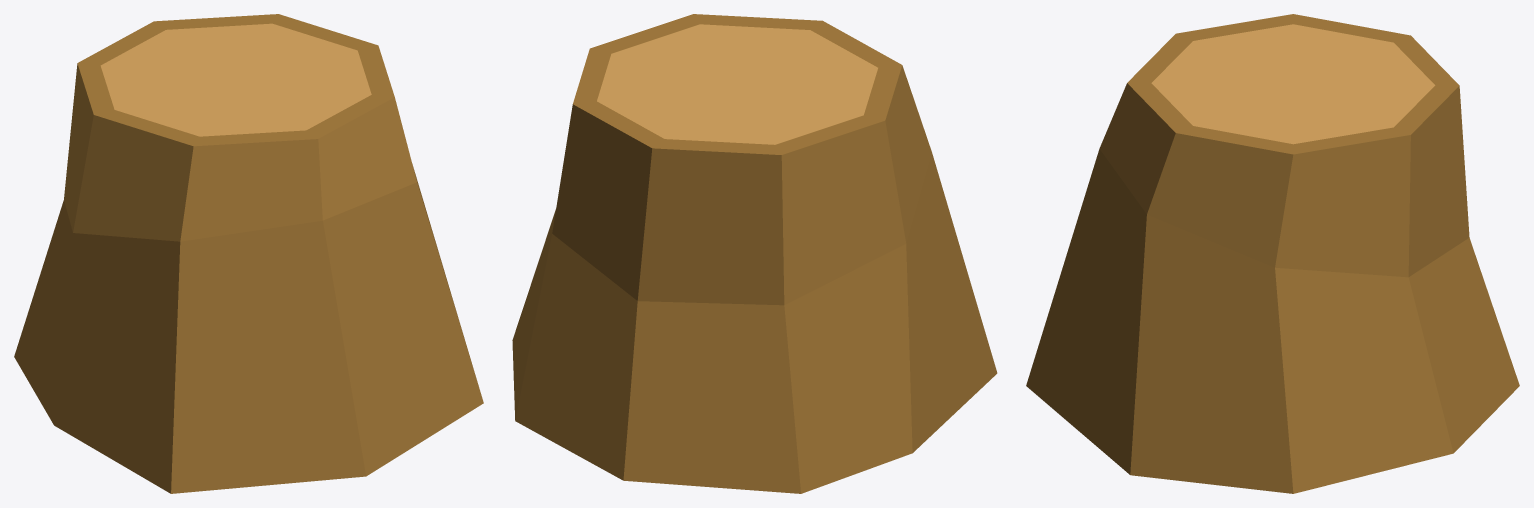
File: treestump 2.fbx
3 views of the same model, side by side, from view 1: azimuth 30°, elevation 25°; view 2: azimuth 150°, elevation 25°; view 3: azimuth 270°, elevation 25° (orthographic). The views are drawn at different scales.
Parts seen in each view (by area): view 1: pCylinder1; view 2: pCylinder1; view 3: pCylinder1.
Boxes of the visible parts, x1,y1,x2,y2 form: pCylinder1: (14, 14, 483, 493); pCylinder1: (512, 14, 997, 493); pCylinder1: (1026, 14, 1519, 493).
Size of the model in its own units: 2.58 by 1.94 by 2.78.
